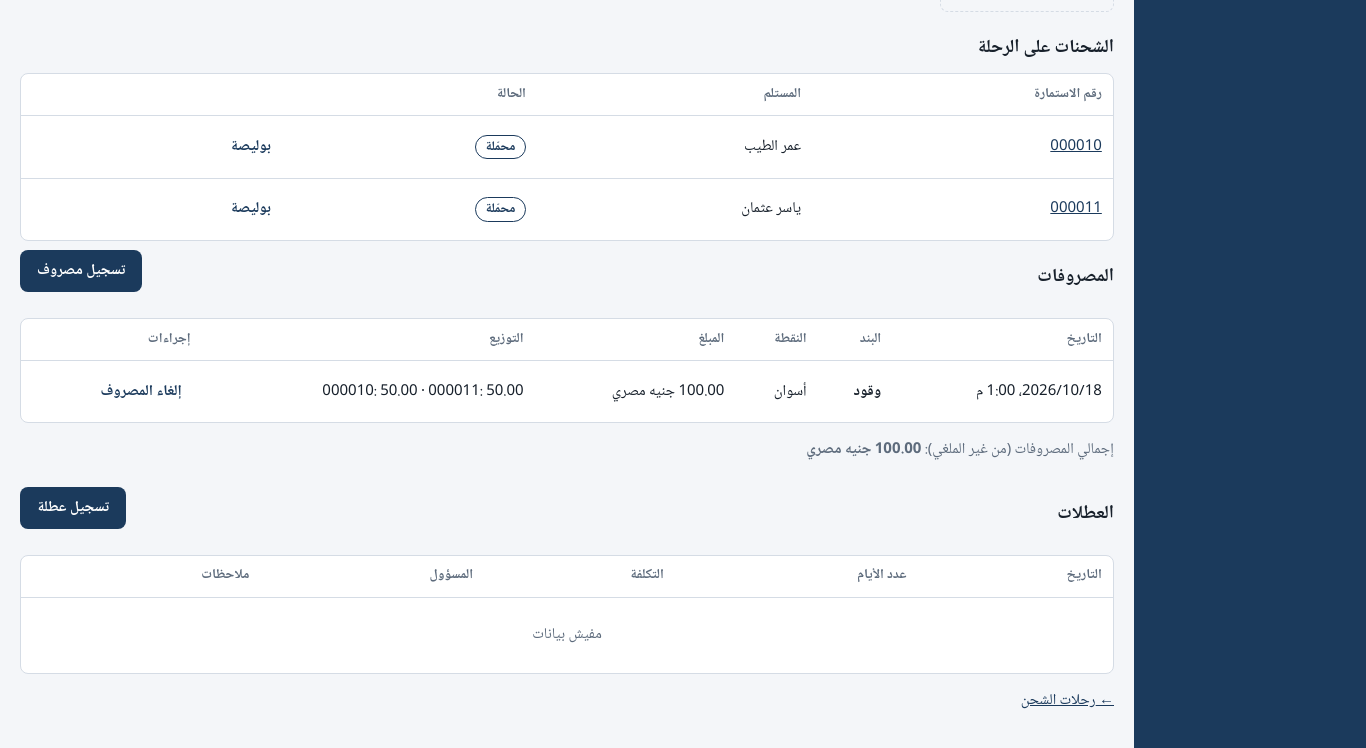
Scenario: trip expenses › voids an expense with a reason
(page scrolled)
Click the button "إلغاء المصروف": [141, 392] box top-left (92, 371), bottom-right (191, 413)
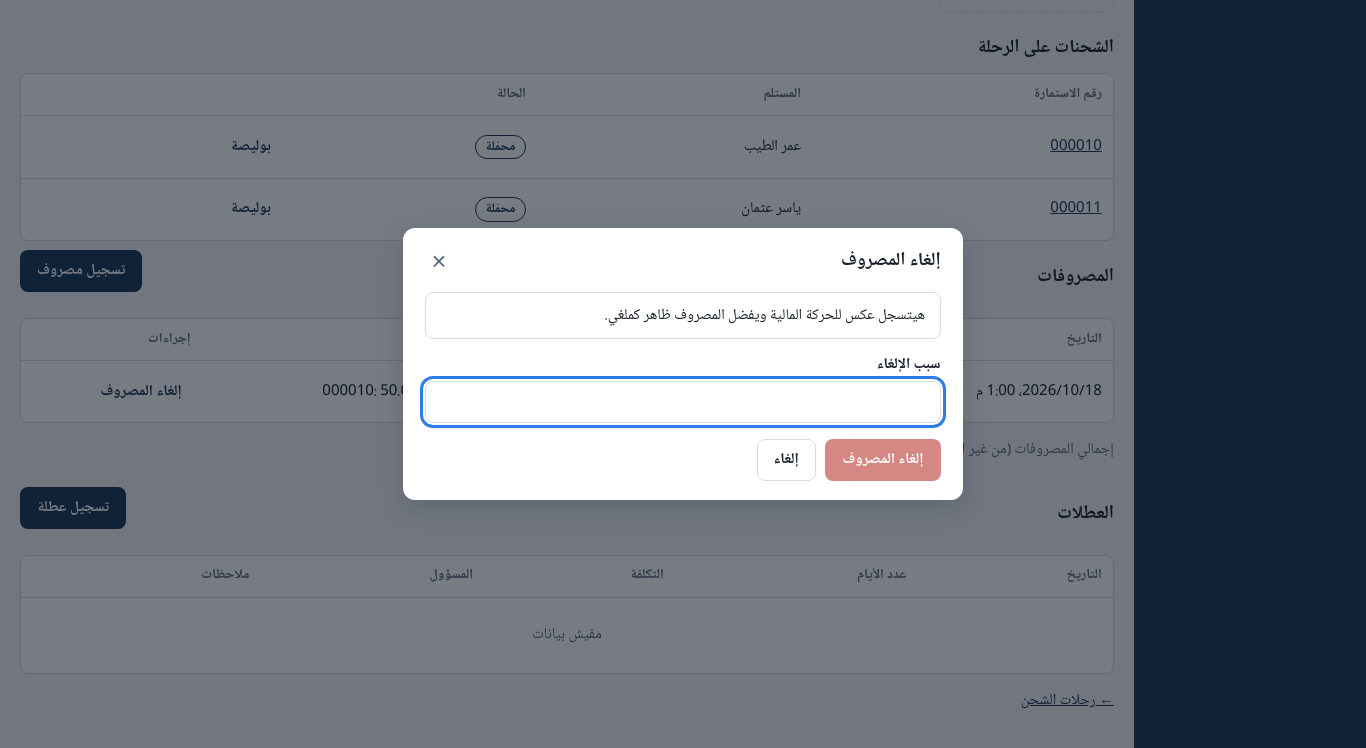
Expected: the text "هيتسجل عكس للحركة المالية ويفضل المصروف ظاهر كملغي." is shown, top-left (425, 292), bottom-right (941, 339)
Expected: the button "إلغاء المصروف" is disabled, top-left (826, 439), bottom-right (941, 481)
In the field labelled "سبب الإلغاء": [683, 402] box top-left (425, 381), bottom-right (941, 423), type "اتسجل على رحلة غلط"
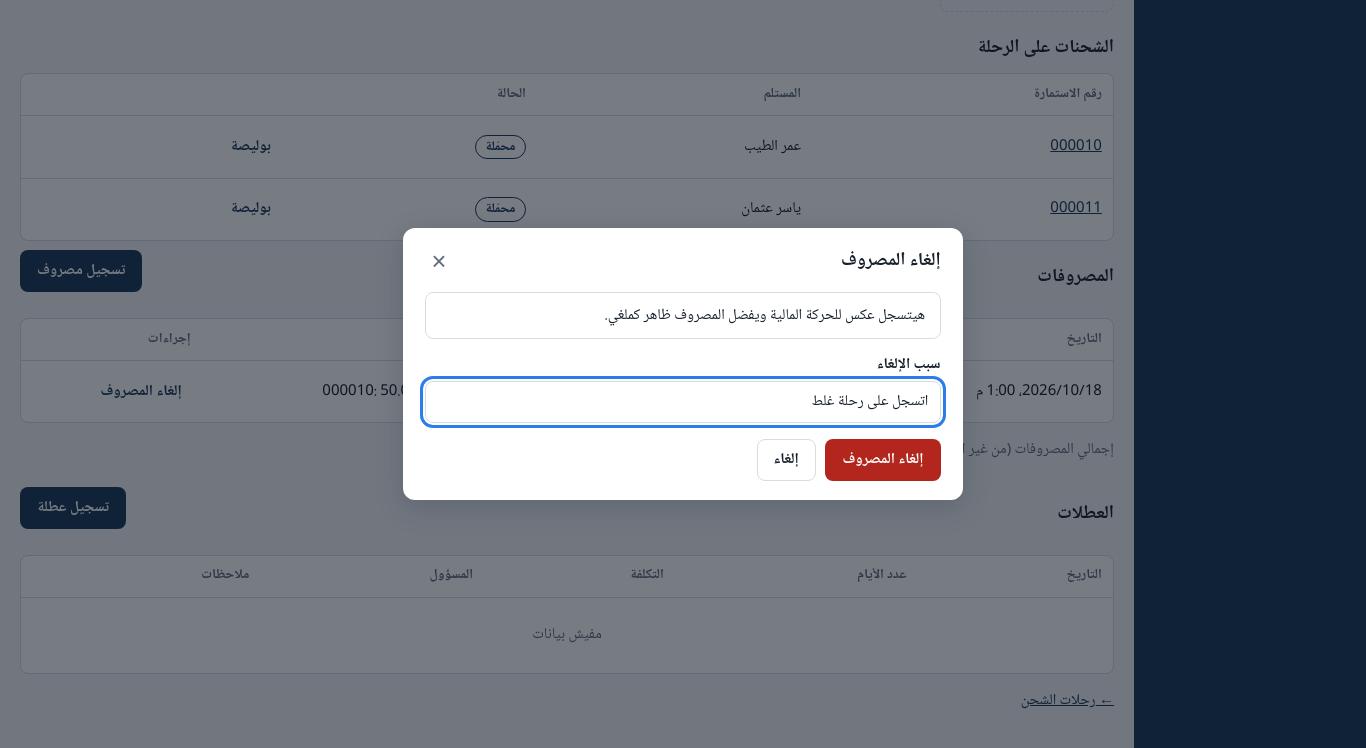
Click the button "إلغاء المصروف": [883, 460] box top-left (826, 439), bottom-right (941, 481)
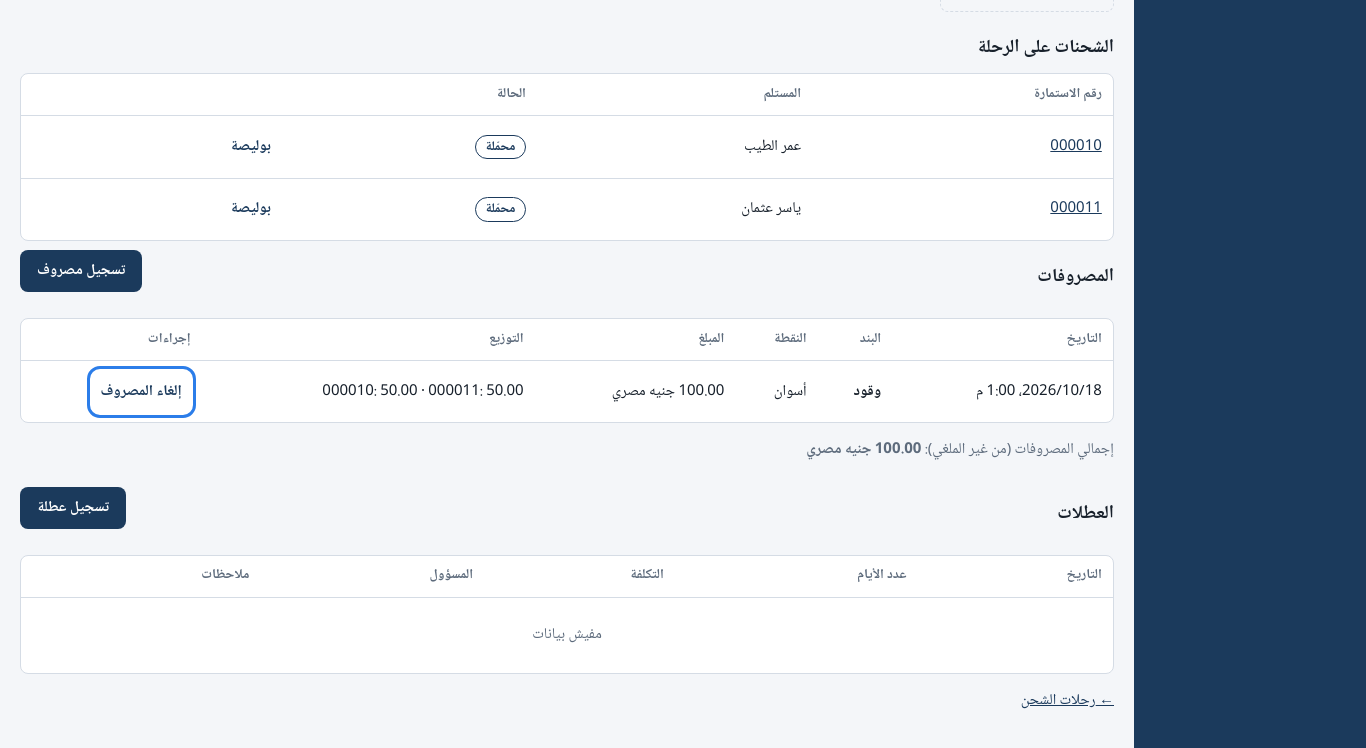
Expected: the dialog is gone
